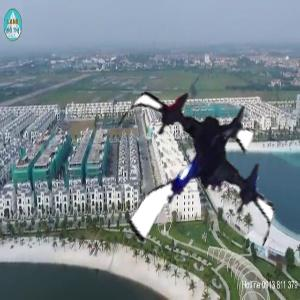drone: (97, 79, 296, 278)
